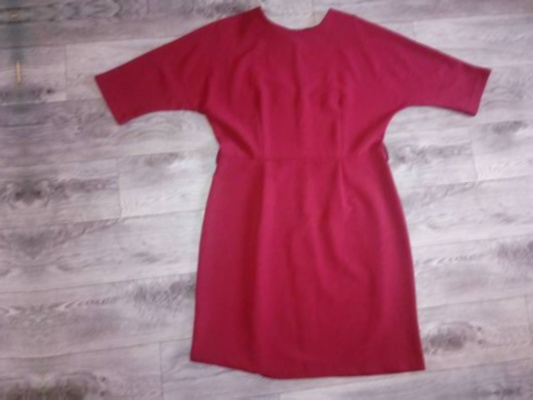Dress: (78, 0, 517, 400), (46, 0, 486, 2)
